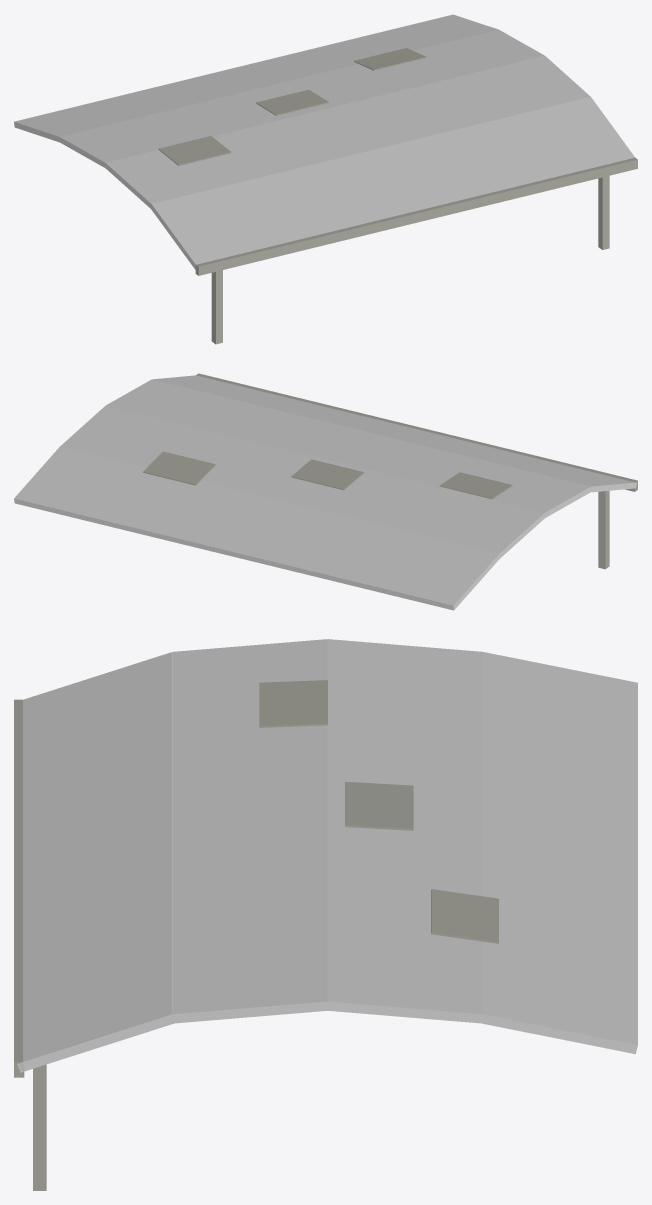
File: SM_VestibuloCastellon_v0_Abandonada_LOD1.fbx
3 renders of one model, top to bottom at view 1: azimuth 30°, elevation 25°; view 2: azimuth 150°, elevation 25°; view 3: azimuth 270°, elevation 25°, orthographic. The views are drawn at different scales.
Visible parts, largest first — view 1: Cubierta; view 2: Cubierta; view 3: Cubierta.
Part boxes in pixels (<box>): Cubierta: <box>14,14,637,344</box>; Cubierta: <box>14,373,637,610</box>; Cubierta: <box>14,639,637,1190</box>.
Size of what is drawn, in the model's own units: 25 by 6.78 by 18.19.
